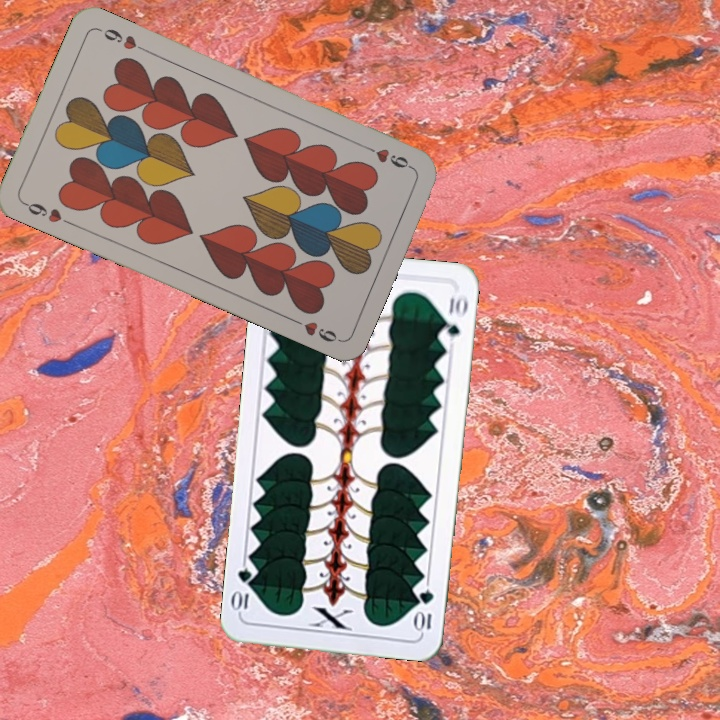G10: (413, 585, 436, 635)
H9: (19, 197, 75, 228), (360, 141, 416, 172)
